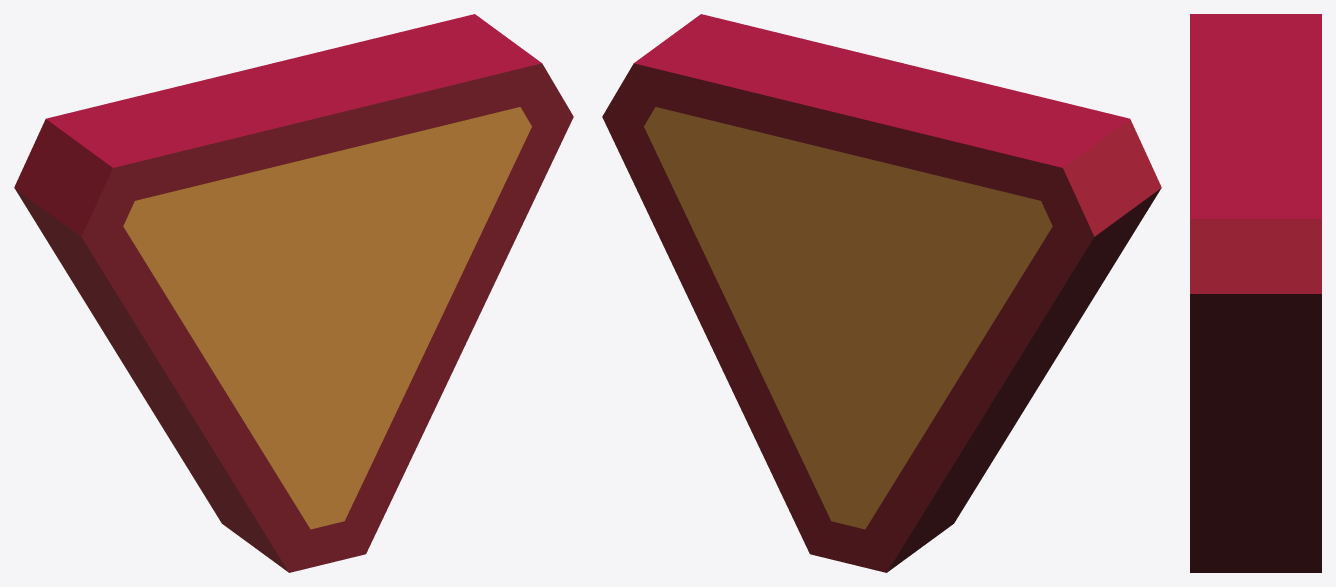
File: TB_CITY_Prop_Sign_C.FBX
3 renders of one model, left to right at view 1: azimuth 30°, elevation 25°; view 2: azimuth 150°, elevation 25°; view 3: azimuth 270°, elevation 25°, orthographic. The views are drawn at different scales.
Visible parts, largest first — view 1: TB_CITY_Prop_Sign_C; view 2: TB_CITY_Prop_Sign_C; view 3: TB_CITY_Prop_Sign_C.
Boxes of the visible parts, x1,y1,x2,y2 form: TB_CITY_Prop_Sign_C: (14,14,573,572); TB_CITY_Prop_Sign_C: (602,14,1161,572); TB_CITY_Prop_Sign_C: (1190,14,1321,572).
Bounding box in the file's own units: 1.27 × 1.11 × 0.3016.
